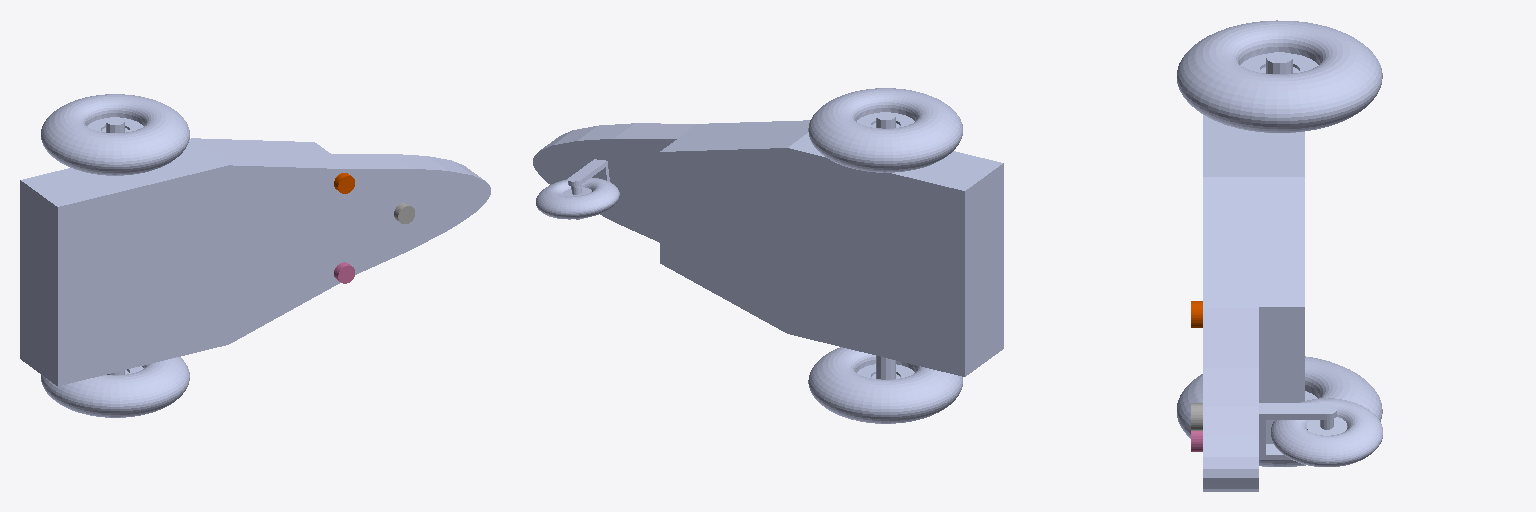
URDF robot description (mobile_robot):
<robot
  name="mobile_robot">
  <gazebo reference="chassis">
    <material>Gazebo/Red</material>
  </gazebo>
  <gazebo reference="right_wheel">
    <material>Gazebo/Black</material>
  </gazebo>
  <gazebo reference="left_wheel">
    <material>Gazebo/Black</material>
  </gazebo>
  <gazebo reference="front_wheel">
    <material>Gazebo/Black</material>
  </gazebo>
  <gazebo reference="holder">
    <material>Gazebo/Red</material>
  </gazebo>
  <gazebo reference="left_sensor">
    <material>Gazebo/White</material>
  </gazebo>
  <gazebo reference="right_sensor">
    <material>Gazebo/white</material>
  </gazebo>
  <gazebo reference="front_sensor">
    <material>Gazebo/White</material>
  </gazebo>
  <link
    name="chassis">
    <inertial>
      <origin
        xyz="-0.147460714742137 -0.0302705388894093 0.0197397389092321"
        rpy="0 0 0" />
      <mass
        value="5.28470193836214" />
      <inertia
        ixx="0.0172196936151484"
        ixy="0.00207025336305734"
        ixz="-0.000349261147912065"
        iyy="0.0883683584210481"
        iyz="8.82258104464462E-06"
        izz="0.0760293825469887" />
    </inertial>
    <visual>
      <origin
        xyz="0 0 0"
        rpy="0 0 0" />
      <geometry>
        <mesh
          filename="package://mobile_robot_description/meshes/chassis.STL" />
      </geometry>
      <material
        name="">
        <color
          rgba="0.792156862745098 0.819607843137255 0.933333333333333 1" />
      </material>
    </visual>
    <collision>
      <origin
        xyz="0 0 0"
        rpy="0 0 0" />
      <geometry>
        <mesh
          filename="package://mobile_robot_description/meshes/chassis.STL" />
      </geometry>
    </collision>
  </link>
  <link
    name="right_wheel">
    <inertial>
      <origin
        xyz="-0.0216872360293876 4.91273688396632E-15 2.49212142519606E-07"
        rpy="0 0 0" />
      <mass
        value="0.501600220937669" />
      <inertia
        ixx="0.00143563367410199"
        ixy="-1.52145813469872E-16"
        ixz="-5.81437685180484E-10"
        iyy="0.000767786397856862"
        iyz="-1.0842021724855E-19"
        izz="0.000767786397888015" />
    </inertial>
    <visual>
      <origin
        xyz="0 0 0"
        rpy="0 0 0" />
      <geometry>
        <mesh
          filename="package://mobile_robot_description/meshes/right_wheel.STL" />
      </geometry>
      <material
        name="">
        <color
          rgba="0.792156862745098 0.819607843137255 0.933333333333333 1" />
      </material>
    </visual>
    <collision>
      <origin
        xyz="0 0 0"
        rpy="0 0 0" />
      <geometry>
        <mesh
          filename="package://mobile_robot_description/meshes/right_wheel.STL" />
      </geometry>
    </collision>
  </link>
  <joint
    name="right_wheel_joint"
    type="continuous">
    <origin
      xyz="-0.232516893895987 -0.00992377145207874 -0.0943355033260453"
      rpy="2.06081793355236 -1.5707963267949 0" />
    <parent
      link="chassis" />
    <child
      link="right_wheel" />
    <axis
      xyz="1 0 0" />
  </joint>
  <link
    name="left_wheel">
    <inertial>
      <origin
        xyz="0.0211606147695255 2.13717932240343E-15 2.49212143400845E-07"
        rpy="0 0 0" />
      <mass
        value="0.50160022093767" />
      <inertia
        ixx="0.00143563367410199"
        ixy="6.69005152138131E-17"
        ixz="-5.81437083891871E-10"
        iyy="0.000767786397856863"
        iyz="-1.35525271560688E-20"
        izz="0.000767786397888016" />
    </inertial>
    <visual>
      <origin
        xyz="0 0 0"
        rpy="0 0 0" />
      <geometry>
        <mesh
          filename="package://mobile_robot_description/meshes/left_wheel.STL" />
      </geometry>
      <material
        name="">
        <color
          rgba="0.792156862745098 0.819607843137255 0.933333333333333 1" />
      </material>
    </visual>
    <collision>
      <origin
        xyz="0 0 0"
        rpy="0 0 0" />
      <geometry>
        <mesh
          filename="package://mobile_robot_description/meshes/left_wheel.STL" />
      </geometry>
    </collision>
  </link>
  <joint
    name="left_wheel_joint"
    type="continuous">
    <origin
      xyz="-0.232516893895987 -0.0099237714521887 0.132816645875042"
      rpy="1.36214888437792 -1.5707963267949 0" />
    <parent
      link="chassis" />
    <child
      link="left_wheel" />
    <axis
      xyz="1 0 0" />
  </joint>
  <link
    name="holder">
    <inertial>
      <origin
        xyz="-7.91033905045424E-16 0.00167070427770837 0"
        rpy="0 0 0" />
      <mass
        value="0.0145605637508094" />
      <inertia
        ixx="7.06262048877384E-06"
        ixy="1.87686475973523E-18"
        ixz="-1.05879118412685E-21"
        iyy="3.15999848872344E-06"
        iyz="1.11672116017902E-21"
        izz="9.78305610352119E-06" />
    </inertial>
    <visual>
      <origin
        xyz="0 0 0"
        rpy="0 0 0" />
      <geometry>
        <mesh
          filename="package://mobile_robot_description/meshes/holder.STL" />
      </geometry>
      <material
        name="">
        <color
          rgba="0.792156862745098 0.819607843137255 0.933333333333333 1" />
      </material>
    </visual>
    <collision>
      <origin
        xyz="0 0 0"
        rpy="0 0 0" />
      <geometry>
        <mesh
          filename="package://mobile_robot_description/meshes/holder.STL" />
      </geometry>
    </collision>
  </link>
  <joint
    name="holder_joint"
    type="fixed">
    <origin
      xyz="0.0943608907023675 0 0.0192556511477779"
      rpy="-3.14159265358973 -1.44058362416008 1.98210909358335E-15" />
    <parent
      link="chassis" />
    <child
      link="holder" />
    <axis
      xyz="0 1 0" />
  </joint>
  <link
    name="front_wheel">
    <inertial>
      <origin
        xyz="-0.0005911395494715 -6.76188943588008E-08 -7.21490811124437E-06"
        rpy="0 0 0" />
      <mass
        value="0.07939886801277" />
      <inertia
        ixx="6.61465252204961E-05"
        ixy="6.02810543812606E-12"
        ixz="-2.05702274983285E-10"
        iyy="3.52805745190462E-05"
        iyz="5.7216274092266E-11"
        izz="3.52806223740297E-05" />
    </inertial>
    <visual>
      <origin
        xyz="0 0 0"
        rpy="0 0 0" />
      <geometry>
        <mesh
          filename="package://mobile_robot_description/meshes/front_wheel.STL" />
      </geometry>
      <material
        name="">
        <color
          rgba="0.792156862745098 0.819607843137255 0.933333333333333 1" />
      </material>
    </visual>
    <collision>
      <origin
        xyz="0 0 0"
        rpy="0 0 0" />
      <geometry>
        <mesh
          filename="package://mobile_robot_description/meshes/front_wheel.STL" />
      </geometry>
    </collision>
  </link>
  <joint
    name="front_wheel_joint"
    type="continuous">
    <origin
      xyz="0 -0.0248262285478683 0"
      rpy="-1.08610219202275 -2.49800180540668E-16 7.86938930123298E-17" />
    <parent
      link="holder" />
    <child
      link="front_wheel" />
    <axis
      xyz="1 0 0" />
  </joint>
    <gazebo>
      <plugin name="differential_drive_controller" filename="libgazebo_ros_diff_drive.so">
        <wheelSeparation>0.2271521492</wheelSeparation>
        <wheelDiameter>0.265622</wheelDiameter>
        <leftJoint>left_wheel_joint</leftJoint>
        <rightJoint>right_wheel_joint</rightJoint>
        <robotBaseFrame>chassis</robotBaseFrame>
        <publishWheelJointState>true</publishWheelJointState>
        <legacyMode>fasle</legacyMode>
      </plugin>
    </gazebo>


    <link name="left_sensor">
      <visual>
        <geometry>
          <cylinder length="0.01" radius="0.01"/>
        </geometry>
      </visual>
    </link>
    <joint name="left_sensor_joint" type="fixed">
      <parent link="chassis"/>
      <child link="left_sensor"/>
      <origin xyz="0 -0.07 0.07" rpy="1.57 -1.57 0"/>
    </joint>


<gazebo reference="left_sensor">
   <sensor type="ray" name="ir_left">
      <pose>0 0 0 0 0 0</pose>
      <update_rate>50</update_rate>
      <ray>
         <scan>
            <horizontal>
               <samples>1</samples>
               <resolution>1.0</resolution>
               <min_angle>-0.01</min_angle>
               <max_angle>0.01</max_angle>
            </horizontal>
            <vertical>
               <samples>1</samples>
               <resolution>1</resolution>
               <min_angle>-0.01</min_angle>
               <max_angle>0.01</max_angle>
            </vertical>
         </scan>
         <range>
            <min>0.01</min>
            <max>3.75</max>
            <resolution>0.02</resolution>
         </range>
      </ray>
      <plugin filename="libgazebo_ros_range.so" name="gazebo_ros_range">
         <gaussianNoise>0.005</gaussianNoise>
         <alwaysOn>true</alwaysOn>
         <updateRate>5</updateRate>
         <topicName>/ir_left</topicName>
         <frameName>left_sensor</frameName>
         <visualize>true</visualize>
         <radiation>infrared</radiation>
         <fov>0.02</fov>
      </plugin>
   </sensor>
 </gazebo>
   <link name="right_sensor">
     <visual>
       <geometry>
         <cylinder length="0.01" radius="0.01"/>
       </geometry>
     </visual>
   </link>
   <joint name="right_sensor_joint" type="fixed">
     <parent link="chassis"/>
     <child link="right_sensor"/>
     <origin xyz="0 -0.07 -0.03" rpy="1.57 1.57 0"/>
   </joint>
   <gazebo reference="right_sensor">
      <sensor type="ray" name="ir_right">
         <pose>0 0 0 0 0 0</pose>
         <update_rate>50</update_rate>
         <ray>
            <scan>
               <horizontal>
                  <samples>1</samples>
                  <resolution>1.0</resolution>
                  <min_angle>-0.01</min_angle>
                  <max_angle>0.01</max_angle>
               </horizontal>
               <vertical>
                  <samples>1</samples>
                  <resolution>1</resolution>
                  <min_angle>-0.01</min_angle>
                  <max_angle>0.01</max_angle>
               </vertical>
            </scan>
            <range>
               <min>0.01</min>
               <max>3.75</max>
               <resolution>0.02</resolution>
            </range>
         </ray>
         <plugin filename="libgazebo_ros_range.so" name="gazebo_ros_range">
            <gaussianNoise>0.005</gaussianNoise>
            <alwaysOn>true</alwaysOn>
            <updateRate>5</updateRate>
            <topicName>/ir_right</topicName>
            <frameName>right_sensor</frameName>
            <visualize>true</visualize>
            <radiation>infrared</radiation>
            <fov>0.02</fov>
         </plugin>
      </sensor>
</gazebo>



<link name="front_sensor">
  <visual>
    <geometry>
      <cylinder length="0.01" radius="0.01"/>
    </geometry>
  </visual>
</link>
<joint name="front_sensor_joint" type="fixed">
  <parent link="chassis"/>
  <child link="front_sensor"/>
  <origin xyz="0.07 -0.07 0.02" rpy="1.57 0 0"/>
</joint>
<gazebo reference="front_sensor">
   <sensor type="ray" name="ir_front">
      <pose>0 0 0 0 0 0</pose>
      <update_rate>50</update_rate>
      <ray>
         <scan>
            <horizontal>
               <samples>1</samples>
               <resolution>1.0</resolution>
               <min_angle>-0.01</min_angle>
               <max_angle>0.01</max_angle>
            </horizontal>
            <vertical>
               <samples>1</samples>
               <resolution>1</resolution>
               <min_angle>-0.01</min_angle>
               <max_angle>0.01</max_angle>
            </vertical>
         </scan>
         <range>
            <min>0.01</min>
            <max>3.75</max>
            <resolution>0.02</resolution>
         </range>
      </ray>
      <plugin filename="libgazebo_ros_range.so" name="gazebo_ros_range">
         <gaussianNoise>0.005</gaussianNoise>
         <alwaysOn>true</alwaysOn>
         <updateRate>5</updateRate>
         <topicName>/ir_front</topicName>
         <frameName>front_sensor</frameName>
         <visualize>true</visualize>
         <radiation>infrared</radiation>
         <fov>0.02</fov>
      </plugin>
   </sensor>
</gazebo>

<gazebo>
    <plugin name="imu_plugin" filename="libgazebo_ros_imu.so">
      <alwaysOn>true</alwaysOn>
      <bodyName>chassis</bodyName>
      <topicName>imu</topicName>
      <serviceName>imu_service</serviceName>
      <gaussianNoise>0.0</gaussianNoise>
      <updateRate>20.0</updateRate>
    </plugin>
  </gazebo>
</robot>

--- What the picture shows (computed from the rendered views, not written in the file) ---
3 views of the same robot in one strip: view 1: azimuth 30°, elevation 25°; view 2: azimuth 150°, elevation 25°; view 3: azimuth 270°, elevation 25° (orthographic).
Robot: mobile_robot — 8 links, 7 joints (3 continuous, 4 fixed); root link chassis; default pose: all joints at 0.
Links seen in each view (by area): view 1: chassis, left_wheel, right_wheel; view 2: chassis, left_wheel, right_wheel, front_wheel, holder; view 3: chassis, left_wheel, front_wheel, right_wheel, holder.
Boxes of the visible links, <box> form: chassis: <box>20,117,490,385</box>; left_wheel: <box>41,94,189,175</box>; right_wheel: <box>41,357,189,417</box>; chassis: <box>533,112,1003,379</box>; left_wheel: <box>808,88,962,172</box>; right_wheel: <box>808,347,962,423</box>; front_wheel: <box>536,178,619,219</box>; holder: <box>568,159,609,219</box>; chassis: <box>1203,52,1304,491</box>; left_wheel: <box>1177,20,1382,132</box>; front_wheel: <box>1271,398,1382,466</box>; right_wheel: <box>1177,356,1382,466</box>; holder: <box>1259,403,1336,459</box>.
Bounding box of the posed robot: 0.5065 × 0.1515 × 0.3109 m (x, y, z).
5 mesh visuals loaded from 5 distinct referenced files (5 binary STL).
